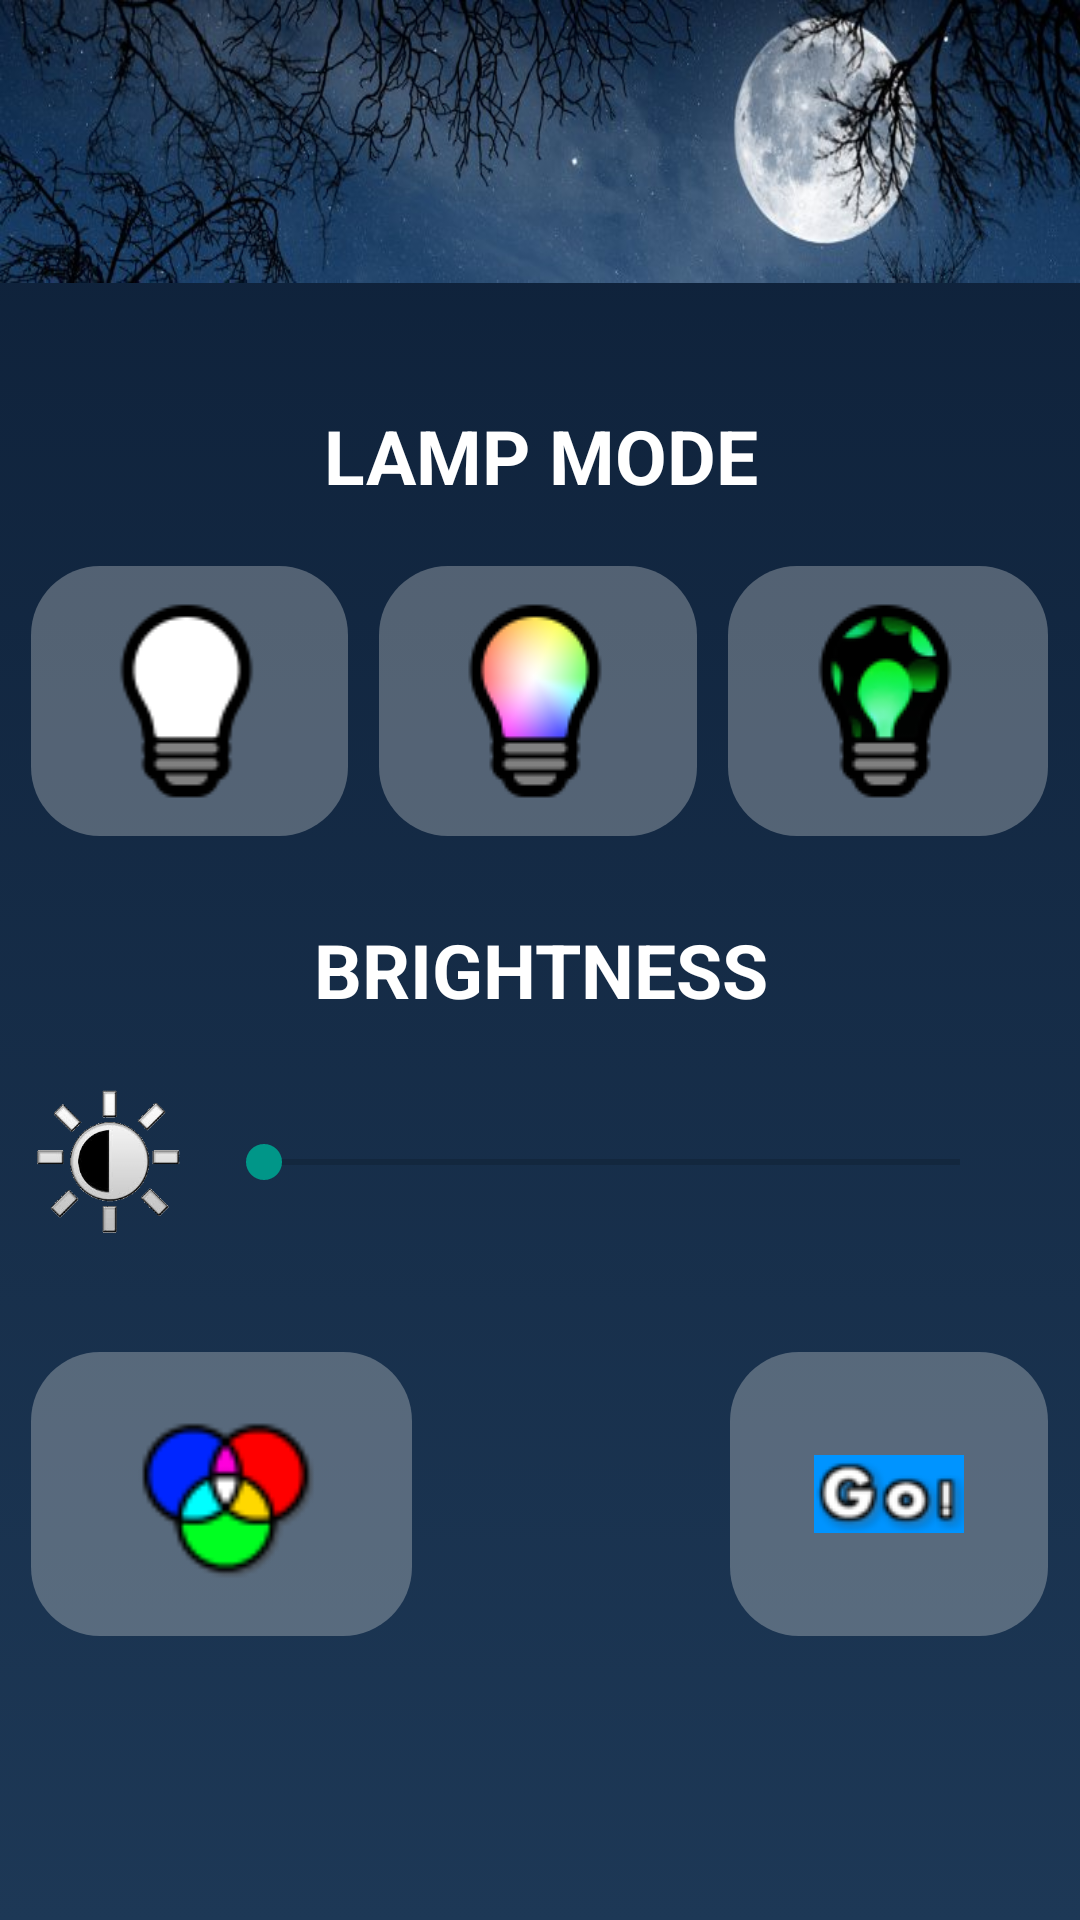

Icons on this 1080px×1920px Android screen, each with the point to tap as [x,y]:
lava lamp: [888,701]
mood lamp: [538,701]
nite lamp: [189,701]
